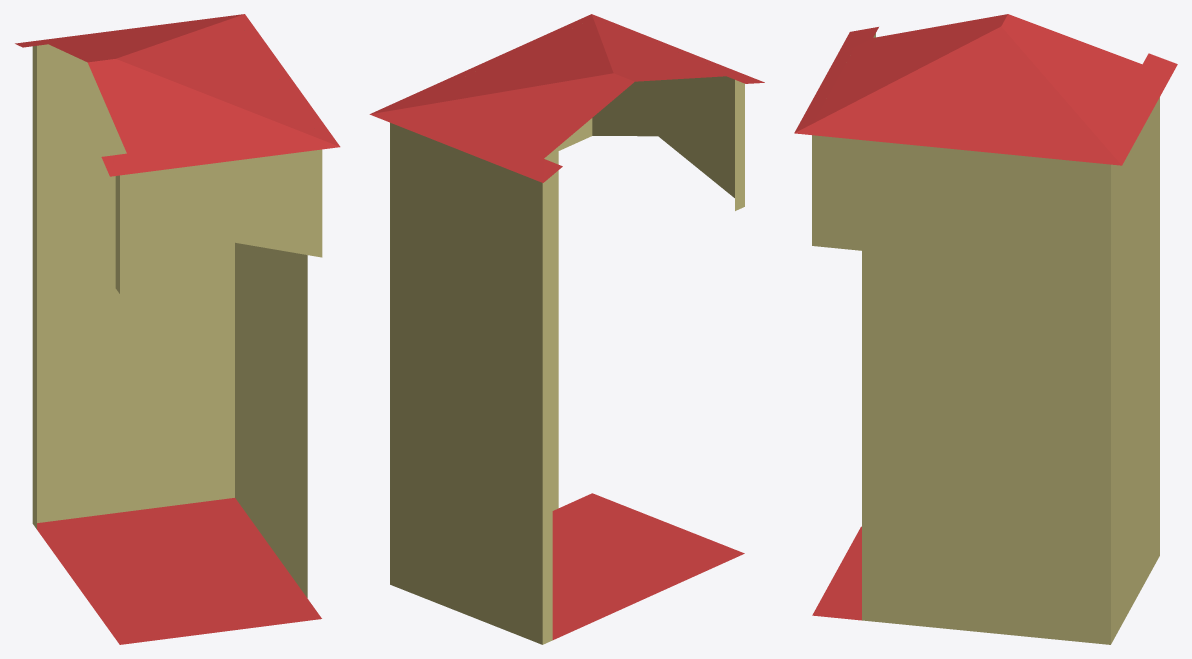
3 views of the same model, side by side, from view 1: azimuth 30°, elevation 25°; view 2: azimuth 150°, elevation 25°; view 3: azimuth 270°, elevation 25° (orthographic). The views are drawn at different scales.
Size of the model in its own units: 5.25 by 6.37 by 9.74.
